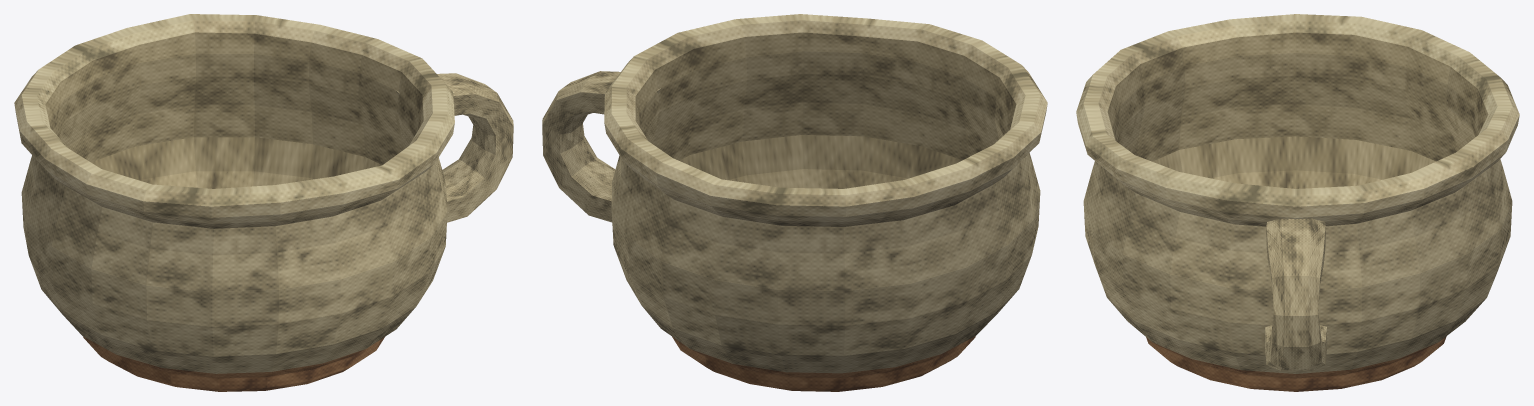
File: Penico-de-Ceramica.glb
3 views of the same model, side by side, from view 1: azimuth 30°, elevation 25°; view 2: azimuth 150°, elevation 25°; view 3: azimuth 270°, elevation 25° (orthographic).
Visible parts, largest first — view 1: Corpo, Interior, Alça; view 2: Corpo, Interior, Alça; view 3: Corpo, Interior, Alça.
Boxes of the visible parts, left/top/right/bottom form: Corpo: left=14, top=14, right=454, bottom=391; Interior: left=45, top=32, right=423, bottom=188; Alça: left=395, top=73, right=513, bottom=222; Corpo: left=604, top=14, right=1047, bottom=391; Interior: left=635, top=32, right=1016, bottom=188; Alça: left=542, top=71, right=661, bottom=222; Corpo: left=1076, top=14, right=1519, bottom=391; Interior: left=1107, top=32, right=1488, bottom=188; Alça: left=1265, top=218, right=1327, bottom=371.
Size of the model in its own units: 0.2894 by 0.1361 by 0.24.
4 materials, 4 textured.
